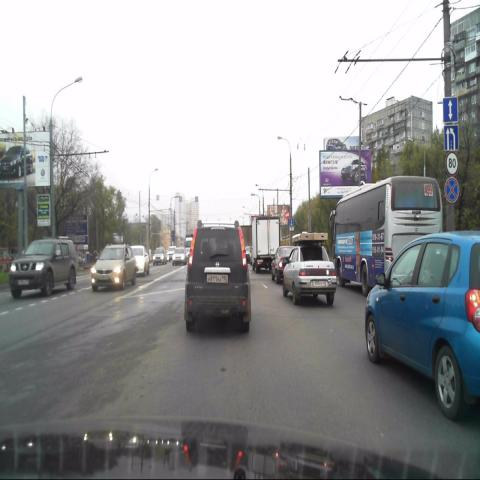5_15_5: (444, 124, 458, 150)
5_8: (443, 96, 458, 123)
